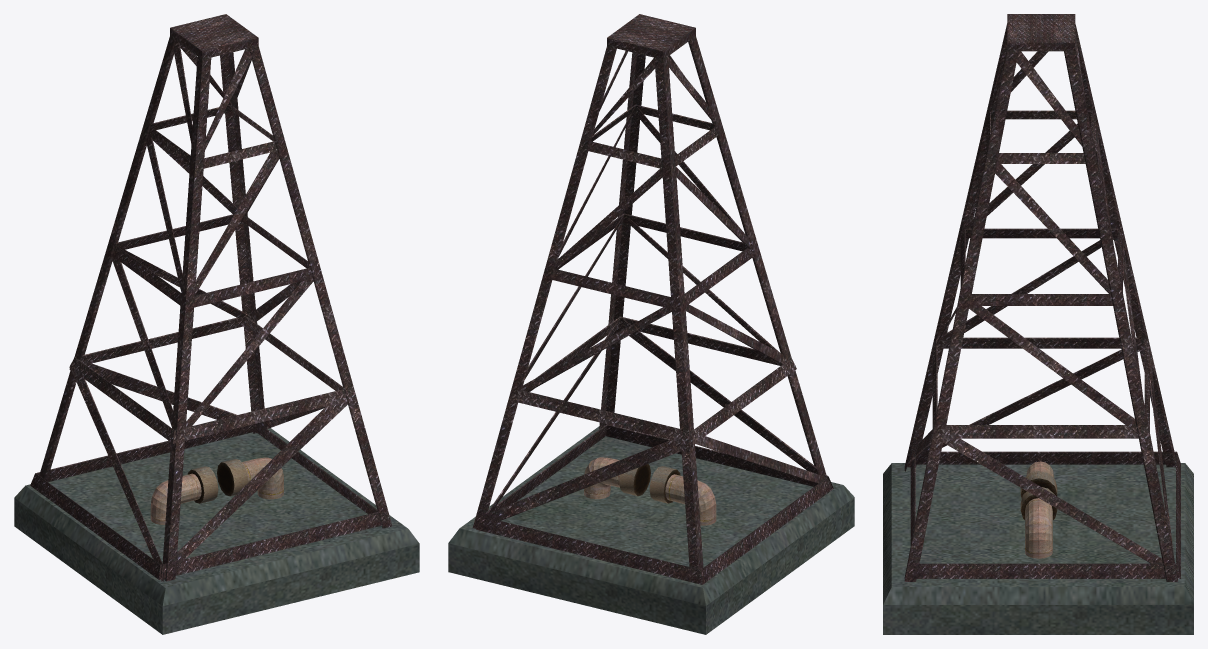
File: OWLHD01.glb
3 renders of one model, left to right at view 1: azimuth 30°, elevation 25°; view 2: azimuth 150°, elevation 25°; view 3: azimuth 270°, elevation 25°, orthographic. The views are drawn at different scales.
Visible parts, largest first — view 1: _OWLHD01; view 2: _OWLHD01; view 3: _OWLHD01.
Boxes of the visible parts, left/top/right/bottom form: _OWLHD01: left=14, top=14, right=419, bottom=634; _OWLHD01: left=448, top=14, right=854, bottom=634; _OWLHD01: left=883, top=14, right=1193, bottom=634.
Bounding box in the file's own units: 7.96 × 15.29 × 7.96.
5 materials, 5 textured.
